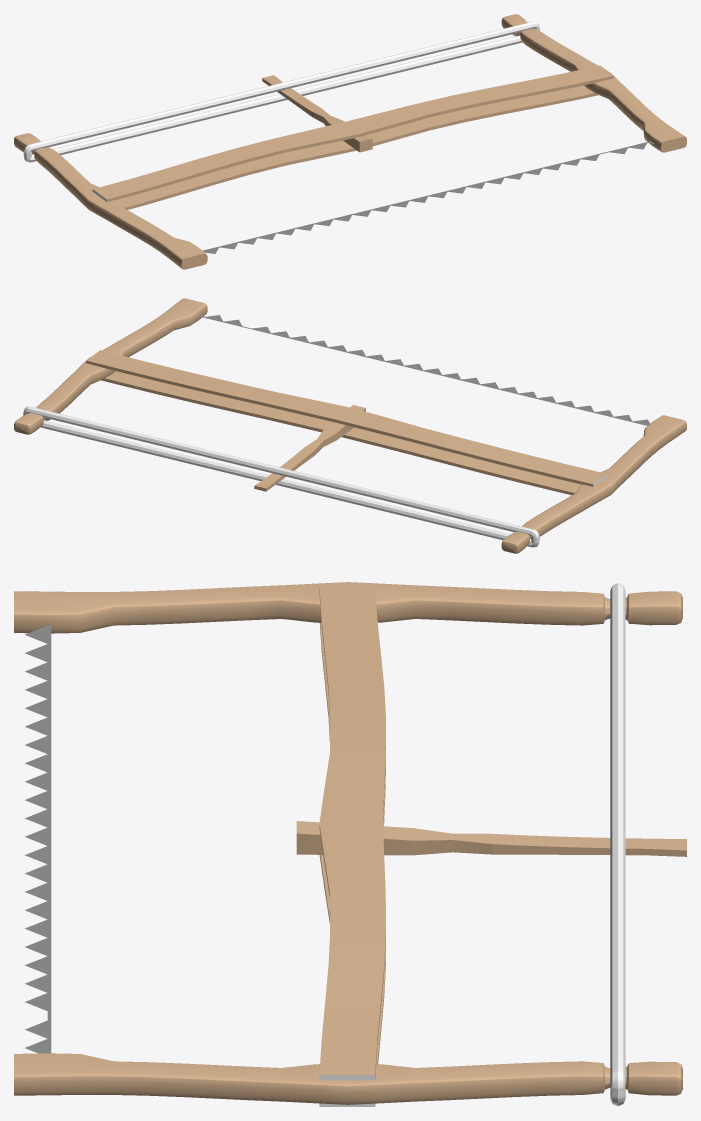
Rendered from Saw.fbx.
The picture shows the model from 3 angles, top to bottom: view 1: azimuth 30°, elevation 25°; view 2: azimuth 150°, elevation 25°; view 3: azimuth 270°, elevation 25°; orthographic projection. The views are drawn at different scales.
Parts seen in each view (by area): view 1: Saw; view 2: Saw; view 3: Saw.
Part boxes in pixels (<box>): Saw: <box>14,14,686,269</box>; Saw: <box>14,298,686,553</box>; Saw: <box>14,582,686,1106</box>.
Bounding box in the file's own units: 21.48 × 0.8476 × 12.07.
Materials: 1 (1 with a texture image).
